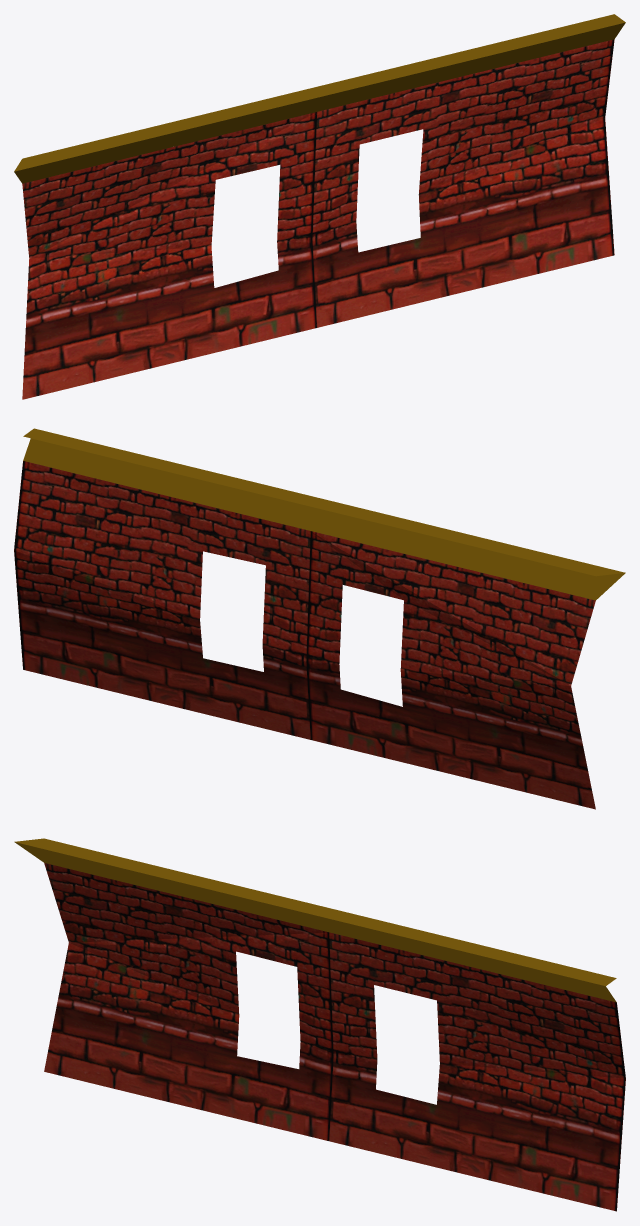
The model's file is W_A2l_xffx [Ziegel]_1827.glb.
3 renders of one model, top to bottom at view 1: azimuth 30°, elevation 25°; view 2: azimuth 150°, elevation 25°; view 3: azimuth 330°, elevation 25°, orthographic. The views are drawn at different scales.
Parts seen in each view (by area): view 1: polySurfaceShape871, polySurfaceShape1031; view 2: polySurfaceShape871, polySurfaceShape1031; view 3: polySurfaceShape871, polySurfaceShape1031.
Boxes of the visible parts, bbox=[...] form: polySurfaceShape871: bbox=[22, 39, 614, 399]; polySurfaceShape1031: bbox=[14, 14, 625, 183]; polySurfaceShape871: bbox=[14, 461, 595, 809]; polySurfaceShape1031: bbox=[23, 428, 625, 600]; polySurfaceShape871: bbox=[44, 863, 625, 1211]; polySurfaceShape1031: bbox=[14, 838, 616, 1002].
Size of the model in its own units: 1.03 by 0.3891 by 0.0607.
Materials: 2 (1 with a texture image).
